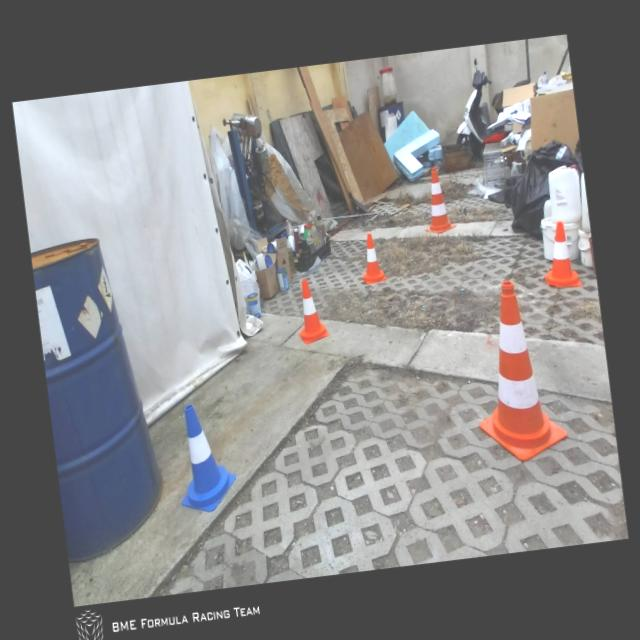blue_cone: (168, 399, 240, 515)
large_orange_cone: (462, 276, 570, 466), (417, 164, 456, 234)
orange_cone: (538, 220, 582, 290), (292, 276, 331, 345), (357, 230, 388, 284)
